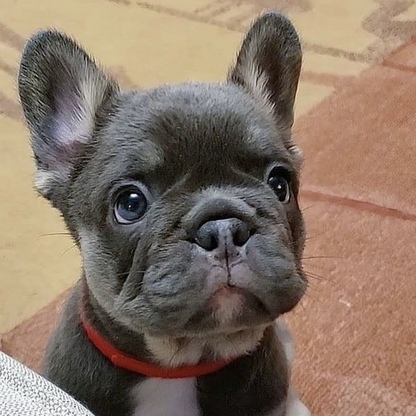bulldog: (26, 17, 310, 348)
